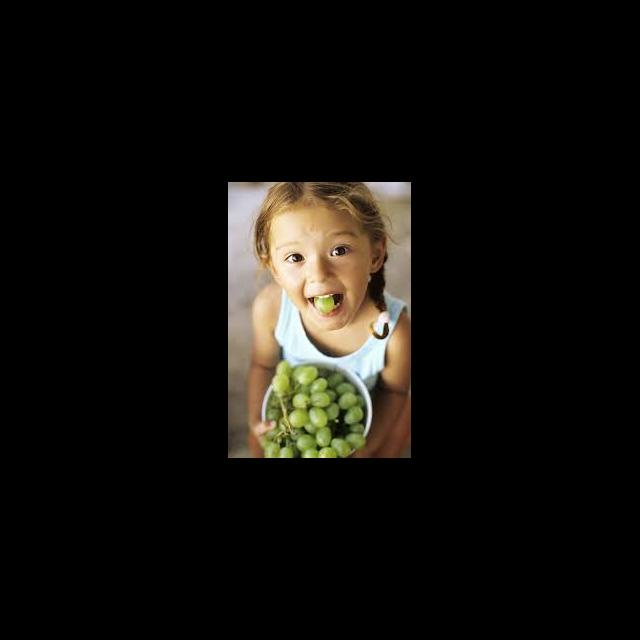grape: (260, 359, 366, 457)
